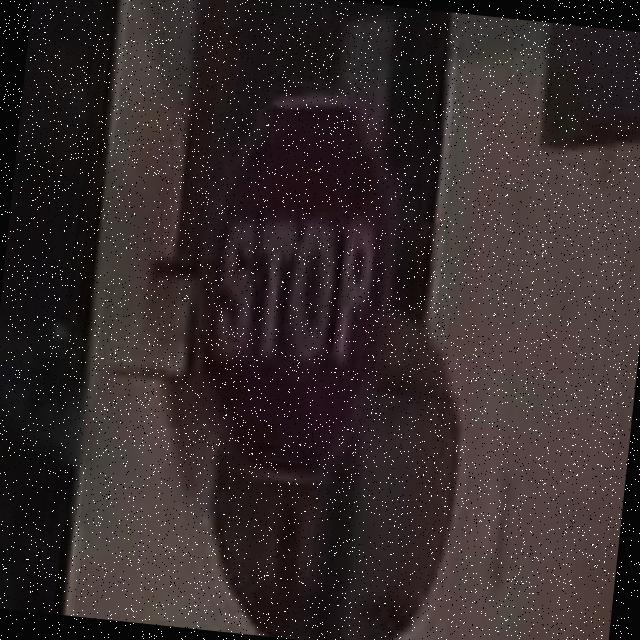Stop: (187, 105, 410, 483)
